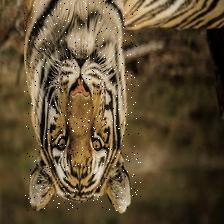tiger: (25, 0, 142, 210)
